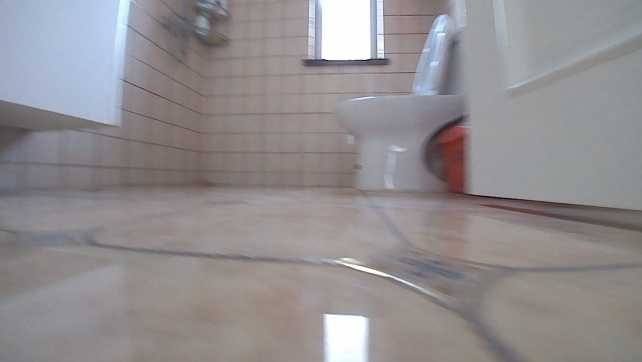toilet: (334, 12, 464, 192)
